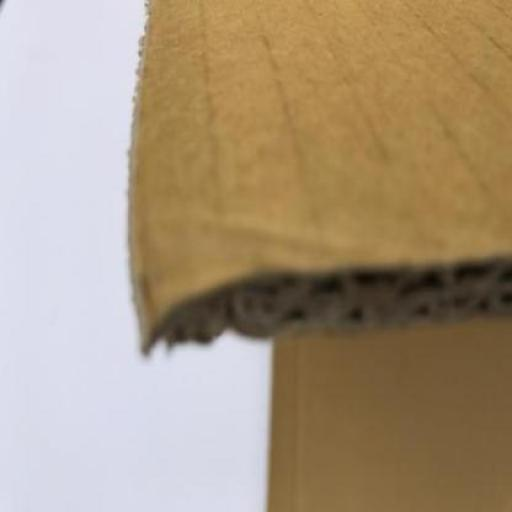cardboard: (126, 1, 512, 511)
